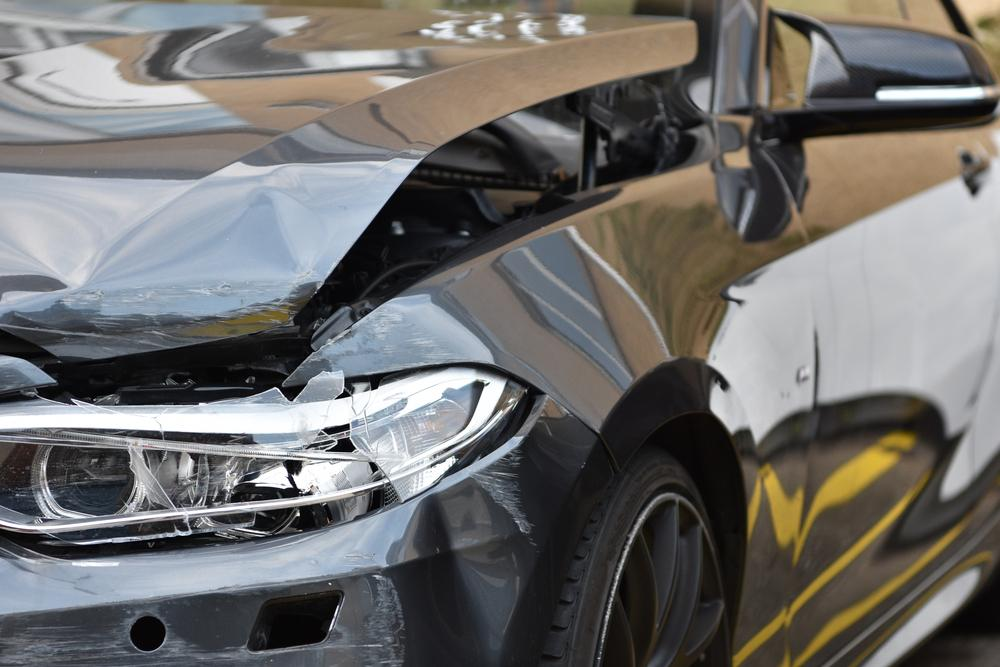dent: (0, 183, 300, 312), (399, 478, 535, 650)
lamp broken: (0, 368, 536, 556)
scratch: (0, 576, 404, 667), (0, 268, 324, 362), (313, 303, 464, 376), (468, 445, 523, 519)
